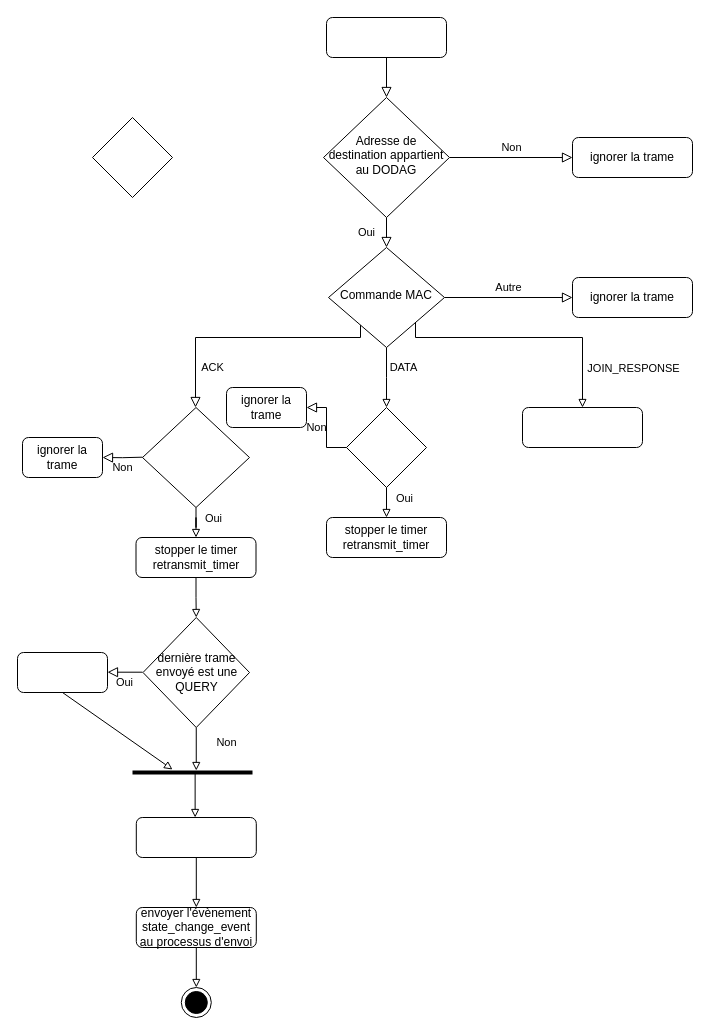
The diagram is 710 pixels wide and 1035 high, and some of its shapes have lost their labels. Each missing label, with the centre of its shape:
"changer l'état à READY" belongs at point (195, 837).
"redémarre le timer query_timer" belongs at point (62, 672).
"SN = last_sent.SN" belongs at point (196, 457).
"SN >= expected SN" belongs at point (386, 447).
"Trame reçue" belongs at point (386, 37).
